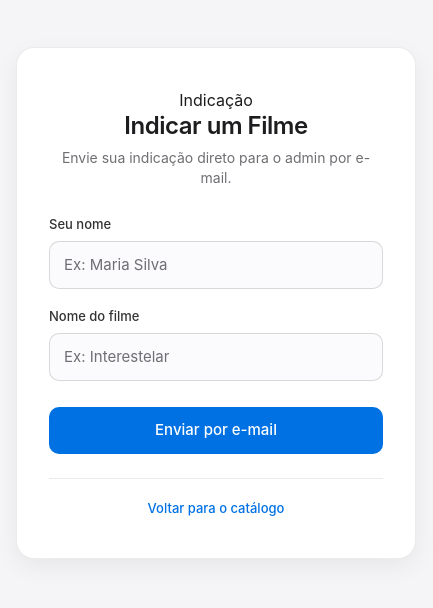
SuggestMovie (integração com POST /api/movie-requests) › bloqueia envio sem os campos obrigatórios
Click the button "Enviar por e-mail" at (216, 431), box [49,408,383,454]
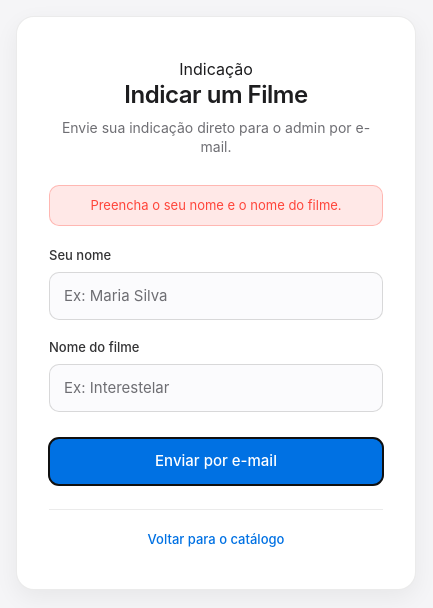
Expected: the text "Preencha o seu nome e o nome do filme." is shown, [49,185,383,226]
